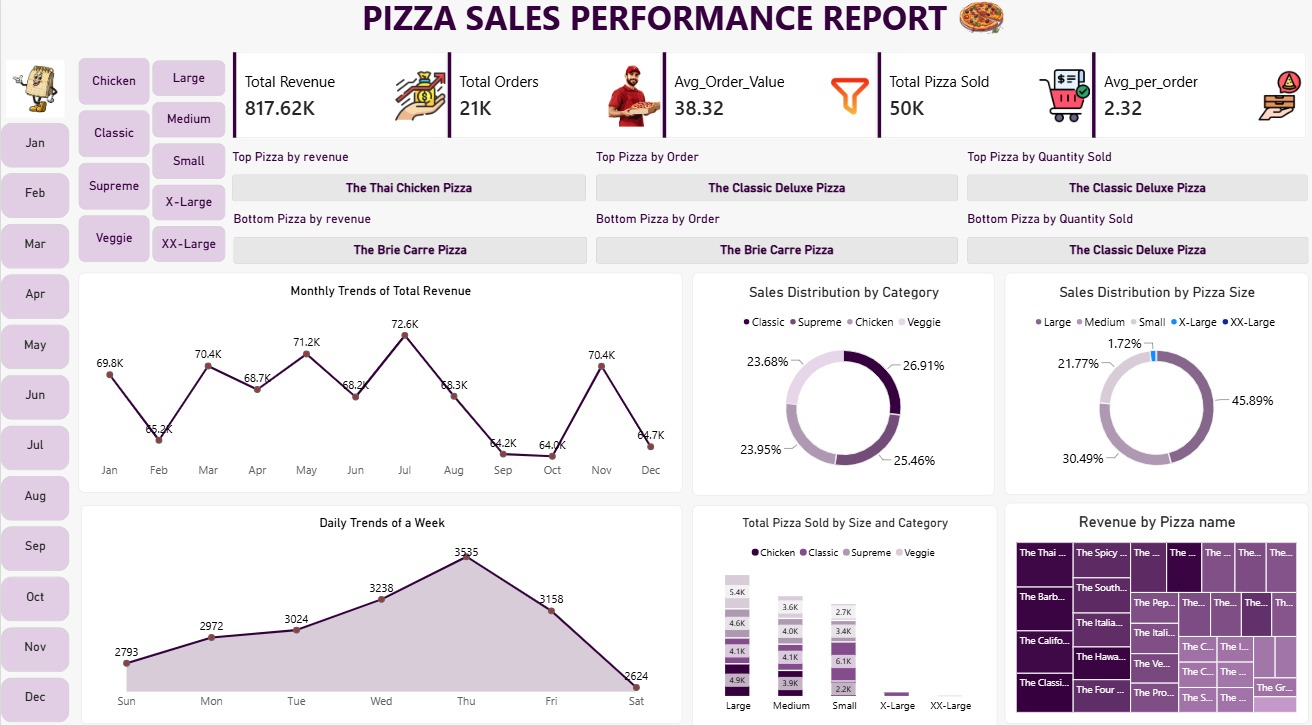

This screenshot's page, from the dashboard's own definition file:
{"tool":"powerbi","page":{"name":"Page 1","canvas":[1920,1080],"ordinal":0},"visuals":[{"type":"lineChart","title":"Monthly Trends of Total Revenue","fields":{"Category":["Pizza_Sales.Month Name"],"Y":["Pizza_Sales.Total Revenue"]},"box":[112.2,403.6,874.1,318.5],"z":1000},{"type":"donutChart","title":"Sales Distribution by Pizza Size","fields":{"Category":["Pizza_Sales.pizza_size"],"Y":["Pizza_Sales.Total Revenue"]},"box":[1453.7,404.1,439.9,321.8],"z":2000},{"type":"donutChart","title":"Sales Distribution by Category","fields":{"Category":["Pizza_Sales.pizza_category"],"Y":["Pizza_Sales.Total Revenue"]},"box":[1000.7,403.6,437.9,322.1],"z":3000},{"type":"lineChart","title":"Daily Trends of a Week","fields":{"Category":["Pizza_Sales.Day Name"],"Y":["Pizza_Sales.Total Orders"]},"box":[115.8,740.2,870.4,316.7],"z":4000},{"type":"cardVisual","fields":{"Data":["Pizza_Sales.Total Revenue","Pizza_Sales.Total Orders","Pizza_Sales.Avg_Order_Value","Pizza_Sales.Total Pizza Sold","Pizza_Sales.Avg_per_order"]},"box":[334.8,83.2,1558.1,126.7],"z":5000},{"type":"lineStackedColumnComboChart","title":"Total Pizza Sold by Size and Category","fields":{"Category":["Pizza_Sales.pizza_size"],"Series":["Pizza_Sales.pizza_category"],"Y":["Pizza_Sales.Total Pizza Sold"]},"box":[1000.7,740.2,441.6,322.1],"z":6000},{"type":"treemap","title":"Revenue by Pizza name","fields":{"Group":["Pizza_Sales.pizza_name"],"Values":["Pizza_Sales.Total Revenue"]},"box":[1453.2,736.5,439.7,320.3],"z":7000},{"type":"advancedSlicerVisual","title":"Top Pizza by revenue","fields":{"Values":["Pizza_Sales.pizza_name"]},"box":[334.8,224.4,512.1,76],"z":8000},{"type":"advancedSlicerVisual","title":"Bottom Pizza by revenue","fields":{"Values":["Pizza_Sales.pizza_name"]},"box":[336.6,314.9,512.1,76],"z":10000},{"type":"advancedSlicerVisual","title":"Top Pizza by Order","fields":{"Values":["Pizza_Sales.pizza_name"]},"box":[861.4,224.4,524.8,76],"z":11000},{"type":"advancedSlicerVisual","title":"Bottom Pizza by Order","fields":{"Values":["Pizza_Sales.pizza_name"]},"box":[861.4,314.9,524.8,76],"z":12000},{"type":"advancedSlicerVisual","title":"Top Pizza by Quantity Sold","fields":{"Values":["Pizza_Sales.pizza_name"]},"box":[1399.7,224.4,494,76.2],"z":13000},{"type":"advancedSlicerVisual","title":"Bottom Pizza by Quantity Sold","fields":{"Values":["Pizza_Sales.pizza_name"]},"box":[1398.9,314.9,494,76],"z":14000},{"type":"advancedSlicerVisual","fields":{"Values":["Pizza_Sales.Month Name"]},"box":[0,186.4,99.5,870.4],"z":15000},{"type":"advancedSlicerVisual","fields":{"Values":["Pizza_Sales.pizza_category"]},"box":[112.2,92.3,103.2,298.6],"z":16000},{"type":"advancedSlicerVisual","fields":{"Values":["Pizza_Sales.pizza_size"]},"box":[219,95.9,106.8,295],"z":16001},{"type":"image","box":[0,95.9,99.5,83.2],"z":16002},{"type":"textbox","box":[0,0,1892.9,70.6],"z":16004},{"type":"image","box":[1347.5,0,142.5,70],"z":16005}]}

Visuals, with their boxes in screenshot pixels (x1, y1, x2, y2), scaled from the page's 1920x1080 canvas onto the 1312x725 screenshot:
"Monthly Trends of Total Revenue" lineChart: 77, 271, 674, 485
"Sales Distribution by Pizza Size" donutChart: 993, 271, 1294, 487
"Sales Distribution by Category" donutChart: 684, 271, 983, 487
"Daily Trends of a Week" lineChart: 79, 497, 674, 709
cardVisual - Pizza_Sales.Total Revenue x Pizza_Sales.Total Orders: 229, 56, 1293, 141
"Total Pizza Sold by Size and Category" lineStackedColumnComboChart: 684, 497, 986, 713
"Revenue by Pizza name" treemap: 993, 494, 1293, 709
"Top Pizza by revenue" advancedSlicerVisual: 229, 151, 579, 202
"Bottom Pizza by revenue" advancedSlicerVisual: 230, 211, 580, 262
"Top Pizza by Order" advancedSlicerVisual: 589, 151, 947, 202
"Bottom Pizza by Order" advancedSlicerVisual: 589, 211, 947, 262
"Top Pizza by Quantity Sold" advancedSlicerVisual: 956, 151, 1294, 202
"Bottom Pizza by Quantity Sold" advancedSlicerVisual: 956, 211, 1293, 262
advancedSlicerVisual - Pizza_Sales.Month Name: 0, 125, 68, 709
advancedSlicerVisual - Pizza_Sales.pizza_category: 77, 62, 147, 262
advancedSlicerVisual - Pizza_Sales.pizza_size: 150, 64, 223, 262
image: 0, 64, 68, 120
textbox: 0, 0, 1293, 47
image: 921, 0, 1018, 47
